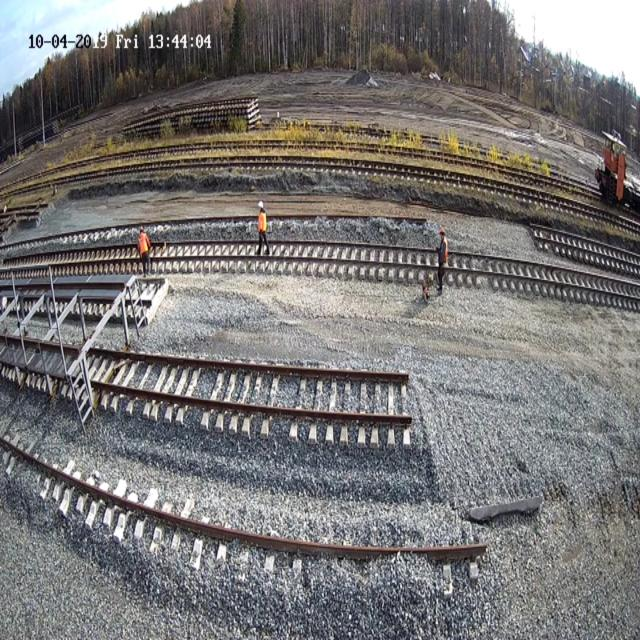Helmet: (258, 200, 264, 208)
Person: (256, 200, 270, 255), (436, 228, 448, 292), (137, 225, 151, 277)
